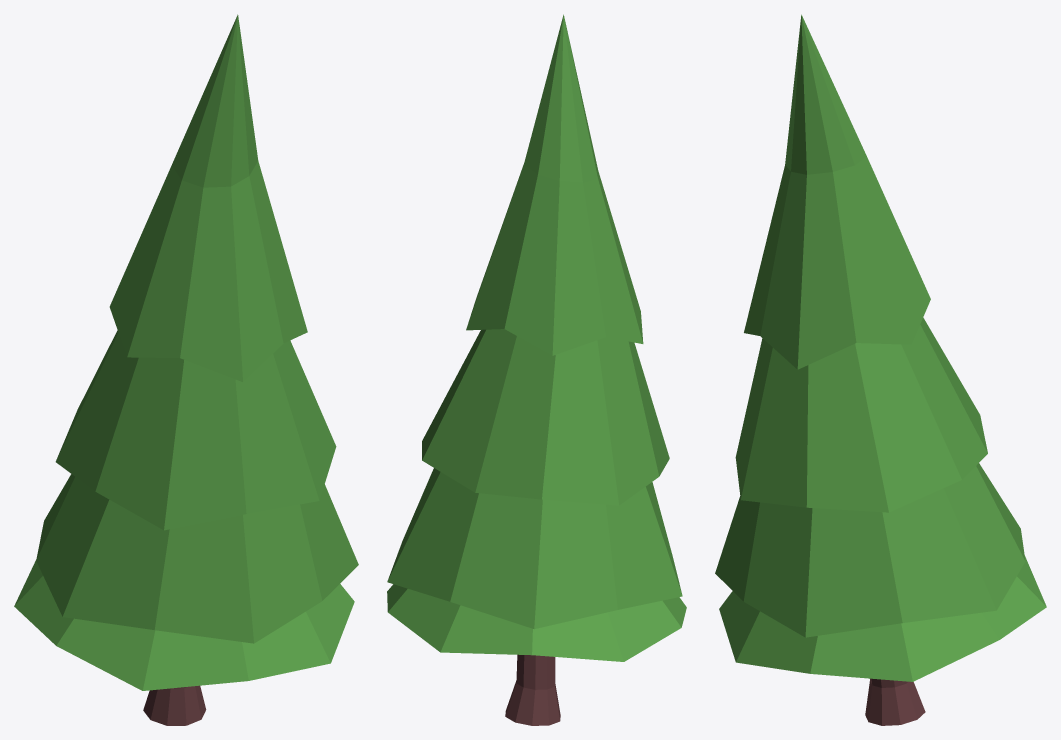
Rendered from pine-2.glb.
The picture shows the model from 3 angles, left to right: view 1: azimuth 30°, elevation 25°; view 2: azimuth 150°, elevation 25°; view 3: azimuth 270°, elevation 25°; orthographic projection. The views are drawn at different scales.
Parts seen in each view (by area): view 1: pine-tree-3.005; view 2: pine-tree-3.005; view 3: pine-tree-3.005.
Boxes of the visible parts, <box> form: pine-tree-3.005: <box>14,14,358,725</box>; pine-tree-3.005: <box>387,14,686,725</box>; pine-tree-3.005: <box>715,14,1046,725</box>.
Size of the model in its own units: 0.1151 by 0.2765 by 0.1172.
Materials: 1 (1 with a texture image).
